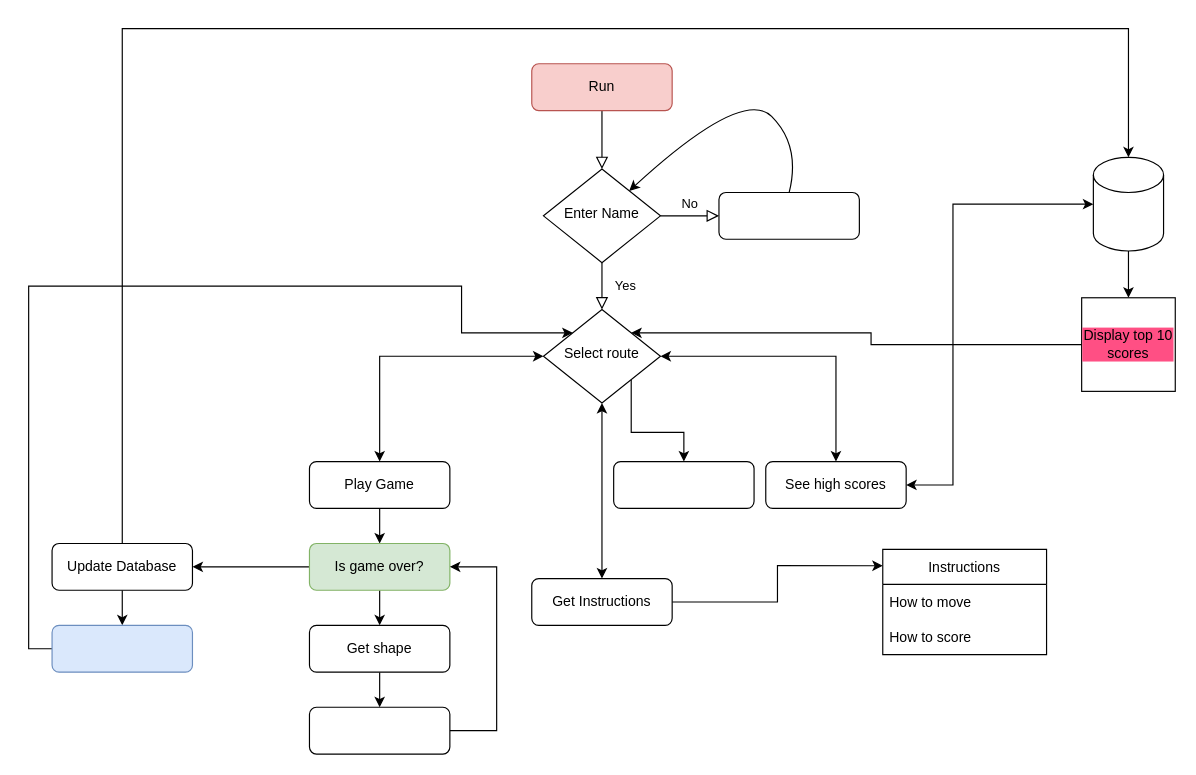
Image size: 1196x775. Some labels were removed from this diagram. Each missing label, with the centre of its shape:
"check again" goes at [788,215].
"Database" goes at [1128,203].
"Drop shape" goes at [379,730].
"Exit program" goes at [683,484].
"Inform user" goes at [121,648].
